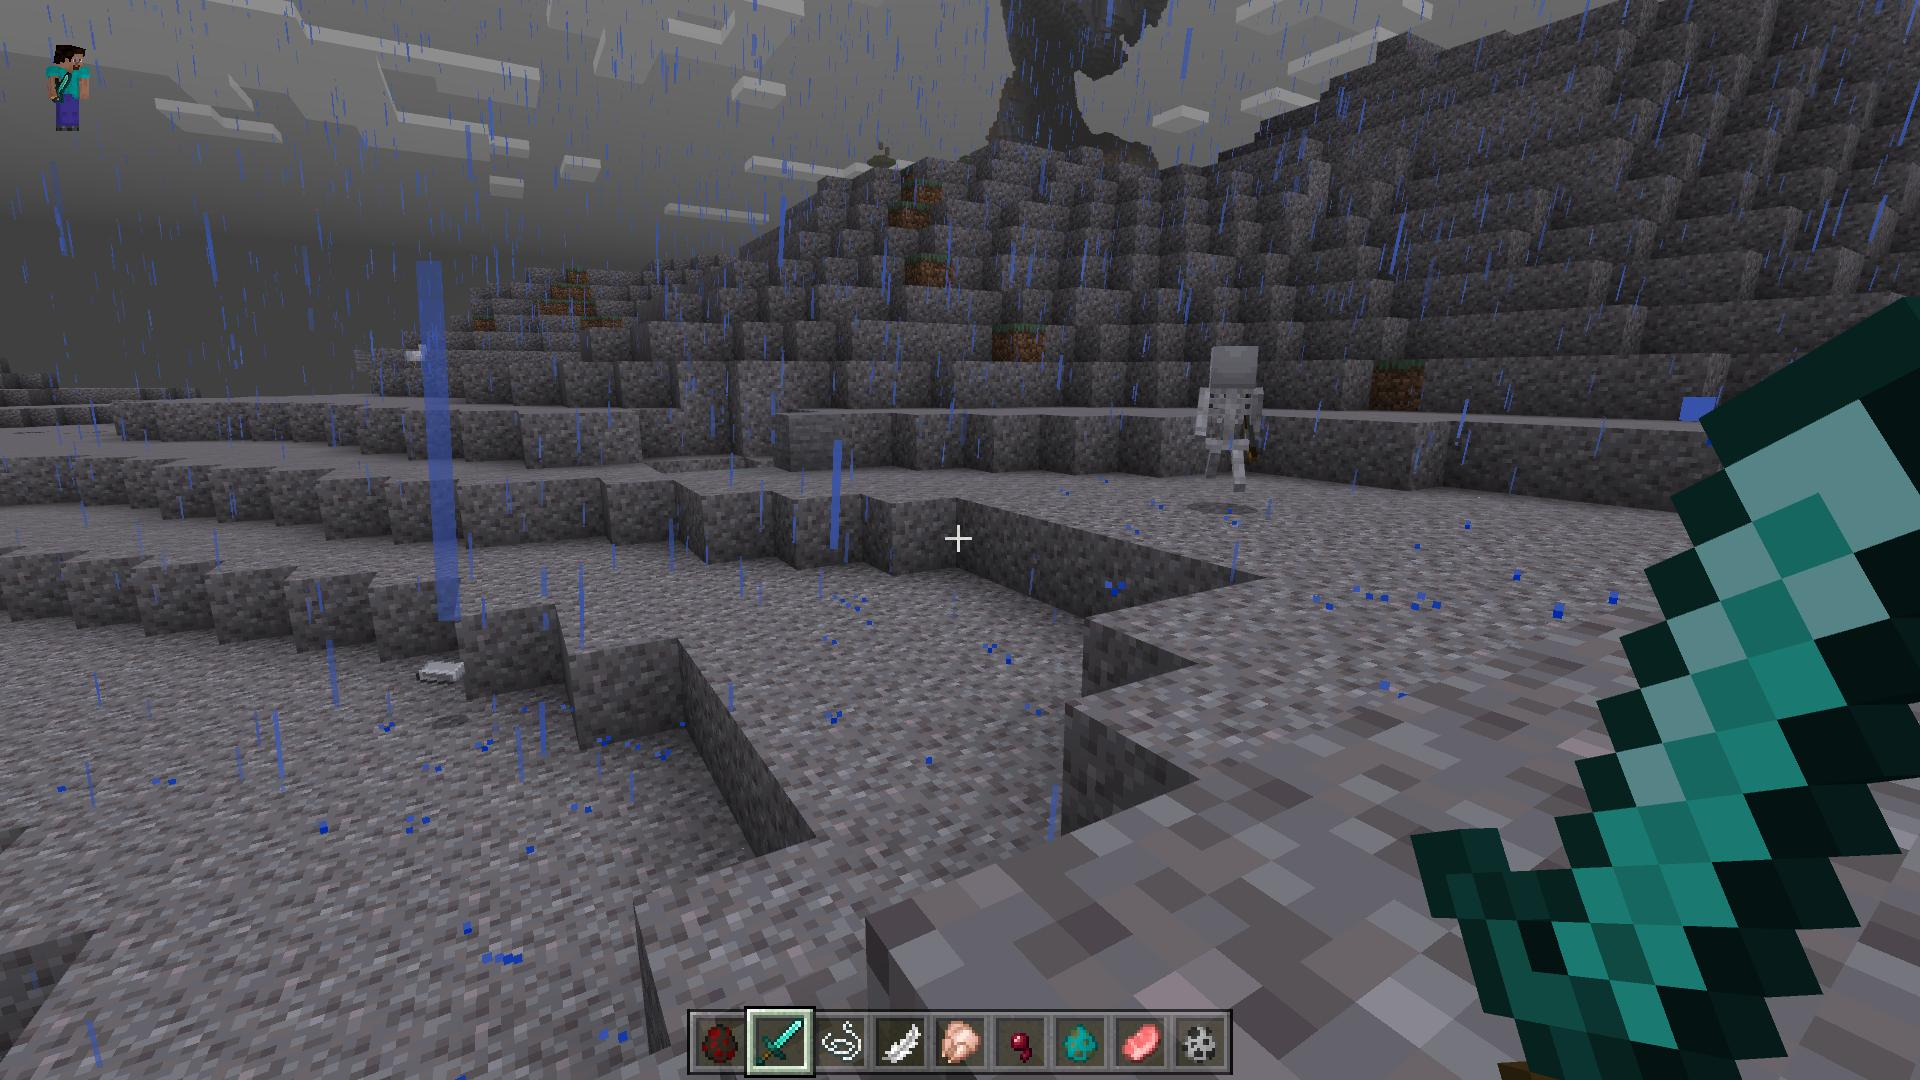skeleton: (1193, 342, 1274, 497)
